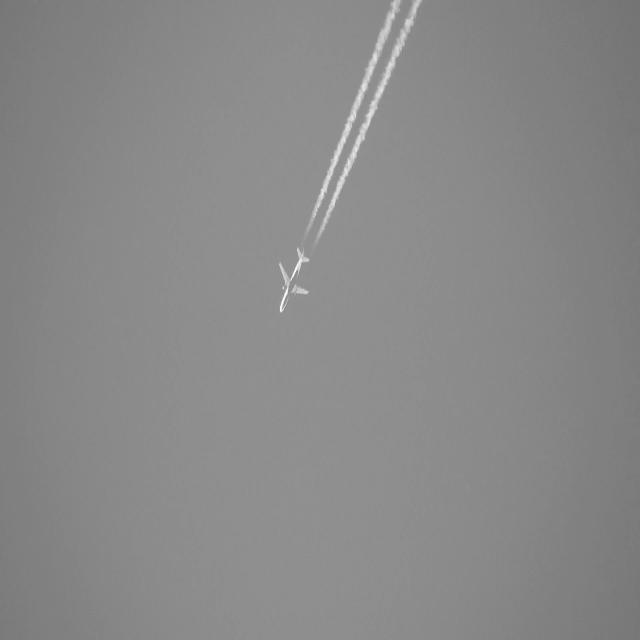aeroplane: (275, 243, 312, 319)
